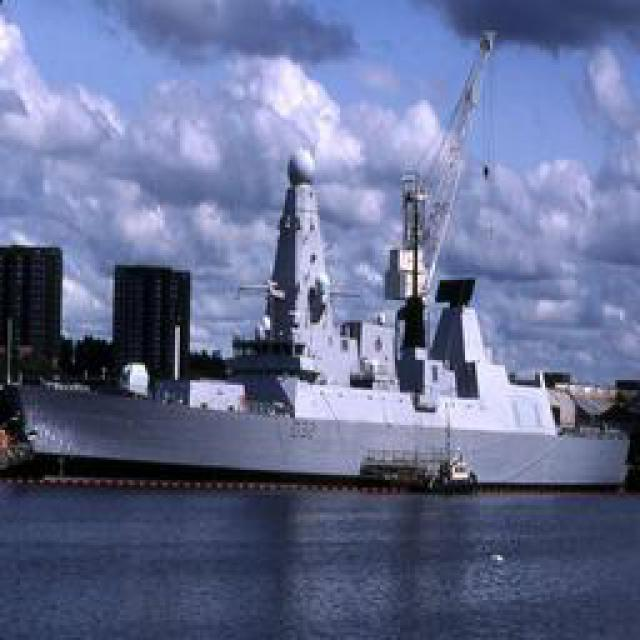Ship: (19, 137, 640, 504)
